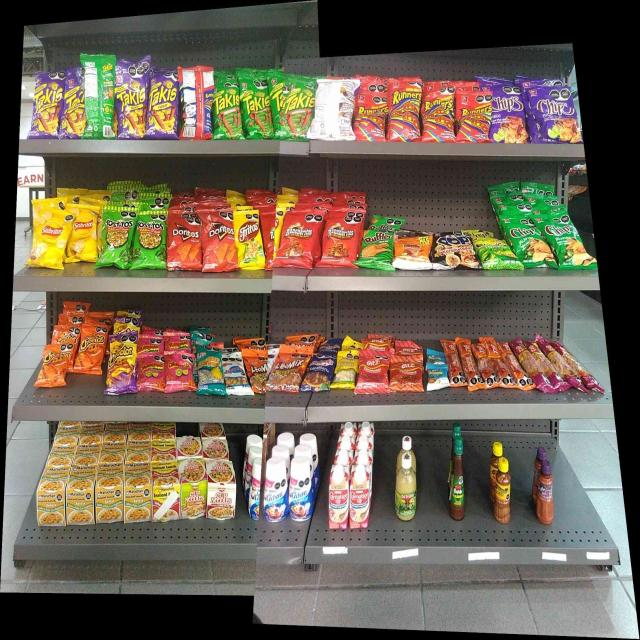bitzAlmendras: (427, 365, 448, 390)
bitzEnchilado90: (359, 352, 388, 394), (391, 355, 422, 391)
bitzEnchilado95: (506, 343, 521, 386), (464, 340, 476, 390), (449, 340, 462, 386), (478, 346, 492, 388), (493, 341, 505, 387)
bitzHabanero: (526, 342, 594, 391)
bokadosCacahuates: (308, 355, 331, 391)
botaneraChilito: (494, 456, 511, 524)
cheetosFlaminHot: (109, 334, 136, 393)
cheetosOriginal: (80, 322, 102, 373), (43, 346, 67, 386)
chipsFuego: (533, 84, 578, 143), (493, 87, 524, 144)
chipsJalapeno: (554, 212, 587, 268), (516, 218, 551, 266)
chipsPapatinas: (482, 241, 514, 269)
churrumais: (166, 352, 194, 390), (138, 356, 164, 390)
delPrimoSalsa: (395, 453, 416, 521)
doritosNacho: (202, 211, 235, 269), (169, 212, 200, 268)
fritosLimon: (236, 213, 262, 267)
hotNutsOriginal: (396, 234, 432, 267)
leoCacahuates: (225, 353, 246, 395)
leoMix: (273, 349, 303, 391), (248, 348, 267, 392)
maruchanPollo: (39, 468, 66, 526), (68, 468, 95, 522), (124, 465, 150, 521), (97, 466, 122, 522)
maruchanRes: (152, 462, 178, 520)
nestleCarnation: (350, 465, 370, 528), (329, 464, 348, 528)
nestleLechera: (266, 455, 288, 521), (289, 456, 312, 519), (250, 459, 260, 521)
nissinCamaron: (180, 460, 206, 518)
nissinRes: (208, 461, 235, 520)
popKarameladas: (435, 235, 475, 269)
productoAtras: (86, 52, 114, 139), (316, 80, 354, 141), (181, 67, 212, 138)
rancheritos: (283, 212, 315, 265), (326, 214, 356, 268)
rufflesQueso: (364, 229, 392, 269)
runners: (390, 81, 419, 141), (457, 92, 490, 144), (423, 92, 454, 142), (357, 93, 385, 142)
sabritasOriginal: (34, 207, 64, 270), (69, 205, 96, 263)
salsaBufalo: (451, 436, 465, 521)
semillasCalabaza: (336, 352, 355, 390)
semillasGirasol: (197, 347, 223, 396)
tajinDulce: (537, 460, 554, 524)
takisFuego: (116, 64, 145, 138), (148, 70, 178, 138), (33, 71, 58, 138), (64, 70, 84, 139)
takisOriginal: (243, 81, 271, 138), (285, 80, 310, 140), (214, 84, 240, 140)
tostitos: (103, 208, 131, 267), (136, 216, 166, 270)
